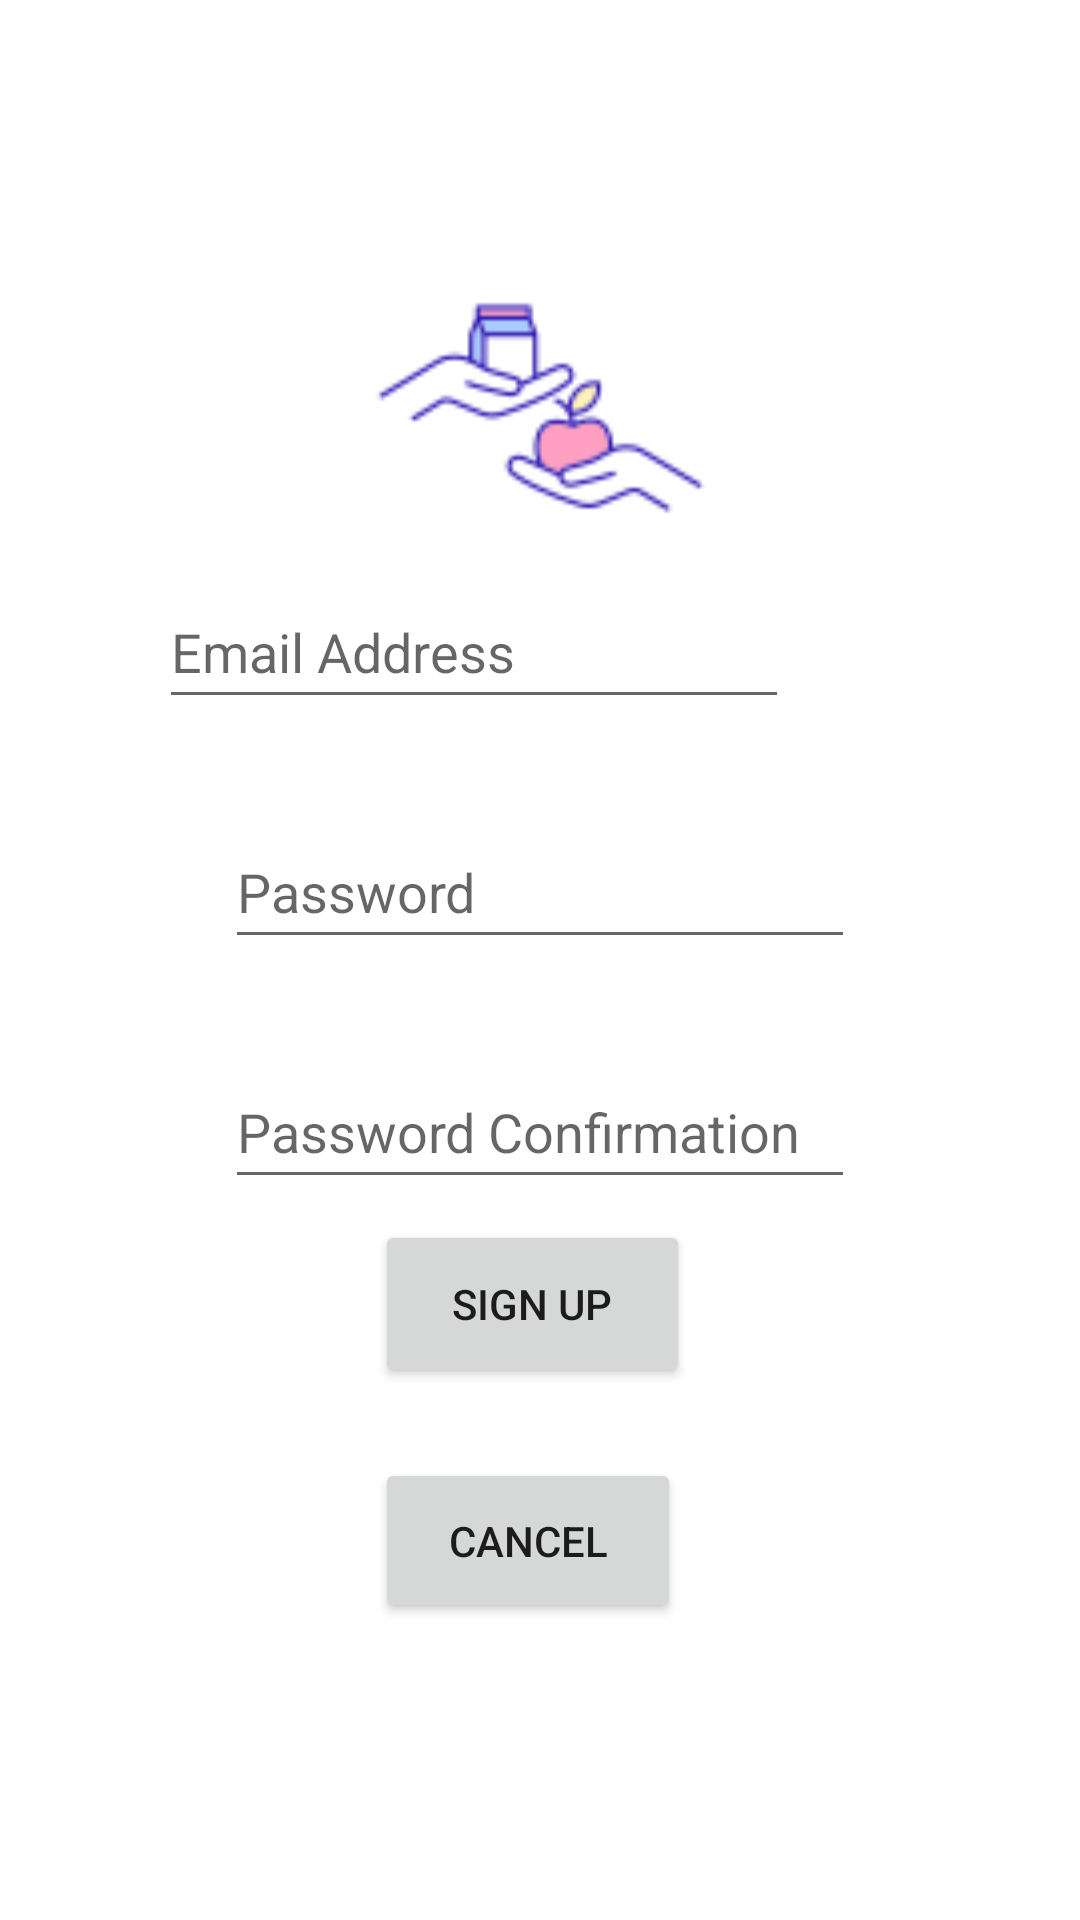

Icon click points for this 1080px×1920px phone screenshot, format (x=x, y=y):
barter: (x=541, y=408)
